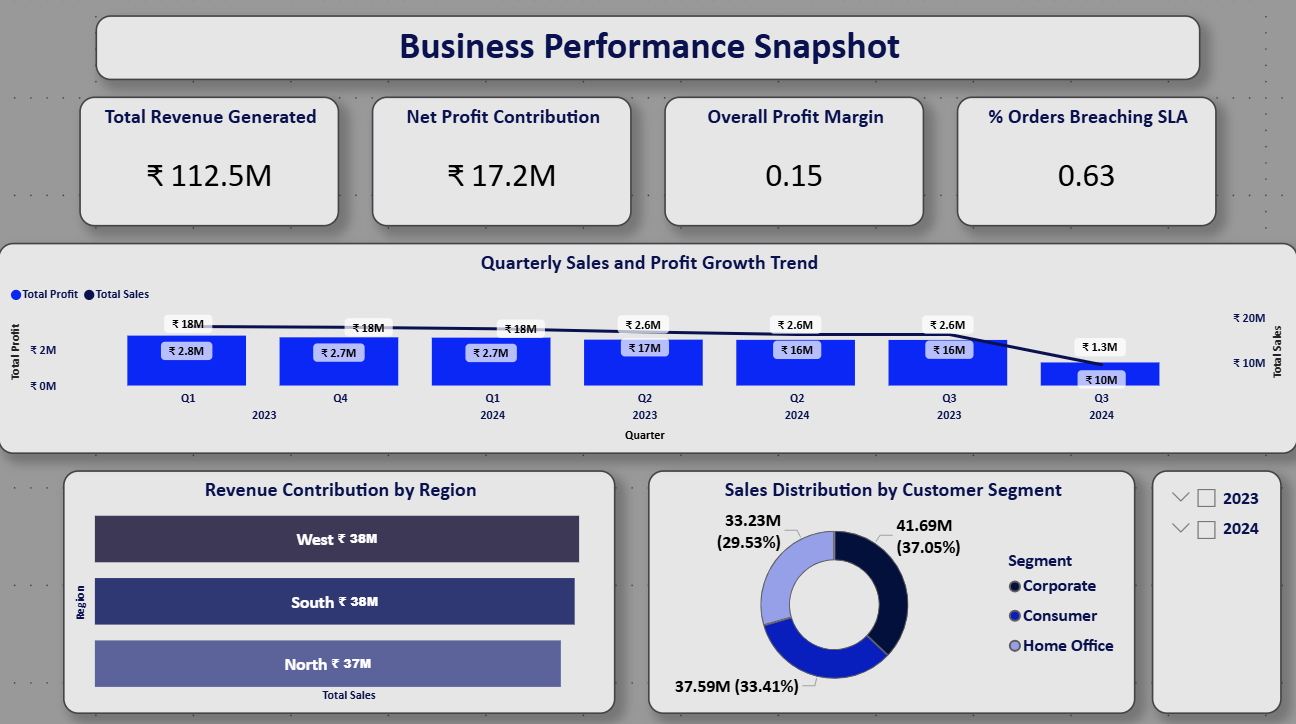

The page's visual inventory and layout, read from the dashboard file:
{"tool":"powerbi","page":{"name":"Executive Overview","canvas":[1280,720],"ordinal":0},"visuals":[{"type":"barChart","title":"Revenue Contribution by Region","fields":{"Category":["Fact_Orders.Region"],"Y":["Fact_Orders.Total Sales"],"Series":["Fact_Orders.Region"]},"box":[64,464,544,240],"z":1000},{"type":"donutChart","title":"Sales Distribution by Customer Segment","fields":{"Y":["Fact_Orders.Total Sales"],"Category":["DimCustomer.Segment"]},"box":[640,464,480,240],"z":2000},{"type":"textbox","title":"Business Performance Snapshot","box":[96,16,1088,64],"z":3000},{"type":"card","title":"Total Revenue Generated","fields":{"Values":["Fact_Orders.Total Sales"]},"box":[80,96,256,128],"z":4000},{"type":"card","title":"Net Profit Contribution","fields":{"Values":["Fact_Orders.Total Profit"]},"box":[368,96,256,128],"z":5000},{"type":"card","title":"Overall Profit Margin","fields":{"Values":["Fact_Orders.Profit Margin %"]},"box":[656,96,256,128],"z":6000},{"type":"card","title":"% Orders Breaching SLA","fields":{"Values":["Fact_Orders.SLA Breach %"]},"box":[944,96,256,128],"z":7000},{"type":"lineClusteredColumnComboChart","title":"Quarterly Sales and Profit Growth Trend","fields":{"Y2":["Fact_Orders.Total Sales"],"Y":["Fact_Orders.Total Profit"],"Category":["DimDate.Month Hierarchy.Year","DimDate.Month Hierarchy.Quarter"]},"box":[0,240,1280,208],"z":8000},{"type":"slicer","fields":{"Values":["DimDate.Month Hierarchy.Year","DimDate.Month Hierarchy.Quarter","DimDate.Month Hierarchy.Month"]},"box":[1136,464,128,240],"z":9000}]}

Visuals, with their boxes in screenshot pixels (x1, y1, x2, y2), scaled from the page's 1280x720 canvas onto the 1296x724 screenshot:
"Revenue Contribution by Region" barChart: (65, 467, 616, 708)
"Sales Distribution by Customer Segment" donutChart: (648, 467, 1134, 708)
"Business Performance Snapshot" textbox: (97, 16, 1199, 80)
"Total Revenue Generated" card: (81, 97, 340, 225)
"Net Profit Contribution" card: (373, 97, 632, 225)
"Overall Profit Margin" card: (664, 97, 923, 225)
"% Orders Breaching SLA" card: (956, 97, 1215, 225)
"Quarterly Sales and Profit Growth Trend" lineClusteredColumnComboChart: (0, 241, 1295, 450)
slicer - DimDate.Month Hierarchy.Year x DimDate.Month Hierarchy.Quarter: (1150, 467, 1280, 708)
